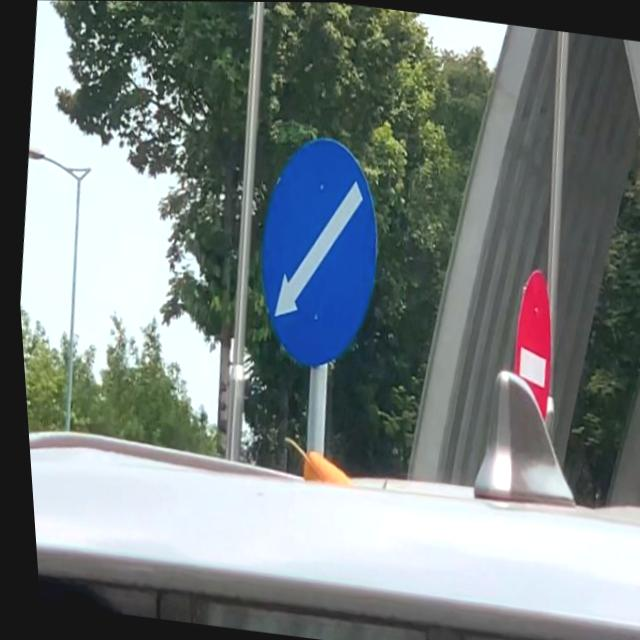Vong chuong ngai vat sang trai: (238, 130, 394, 375)
